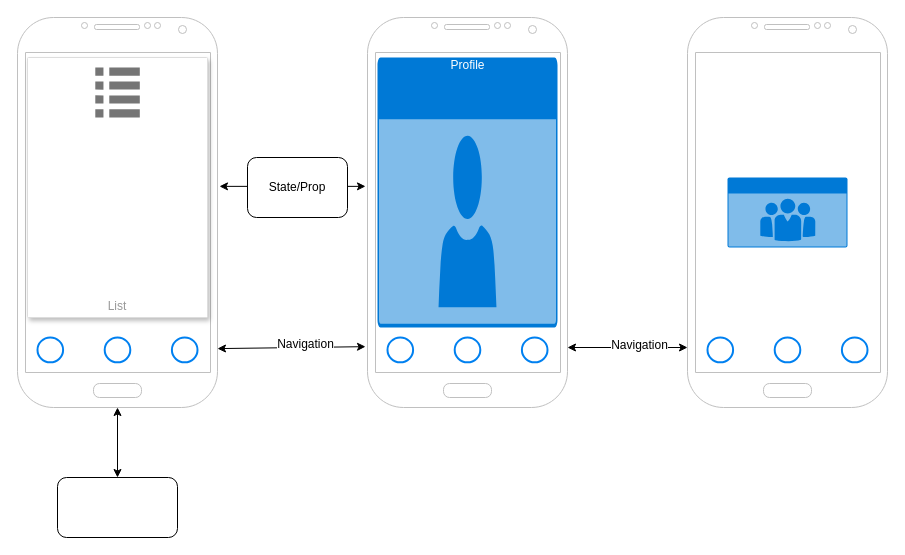
Image size: 905x555. Some labels were removed from this diagram. The shapes that lost their labels are listed below. From the top down, each one's centre as x and y in pixels, then its label:
At pixel 787 212: "About us".
At pixel 117 507: "API".
